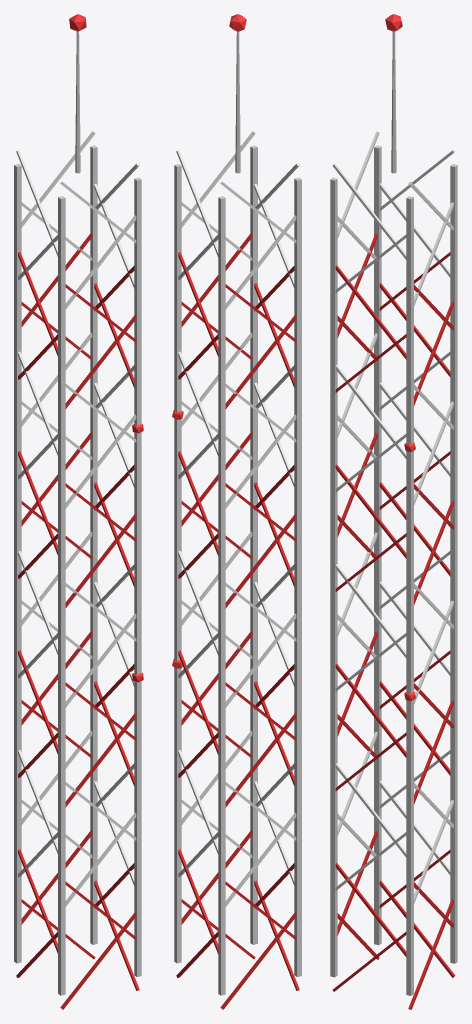
The model's file is broadcast_mast.glb.
3 views of the same model, side by side, from view 1: azimuth 30°, elevation 25°; view 2: azimuth 210°, elevation 25°; view 3: azimuth 330°, elevation 25° (orthographic).
Visible parts, largest first — view 1: broadcast_mast; view 2: broadcast_mast; view 3: broadcast_mast.
Boxes of the visible parts, box(x1,y1,x2,y2) form: broadcast_mast: box(14, 14, 143, 1009); broadcast_mast: box(172, 14, 301, 1009); broadcast_mast: box(330, 14, 457, 1009).
Bounding box in the file's own units: 1.76 × 19.49 × 1.75.
